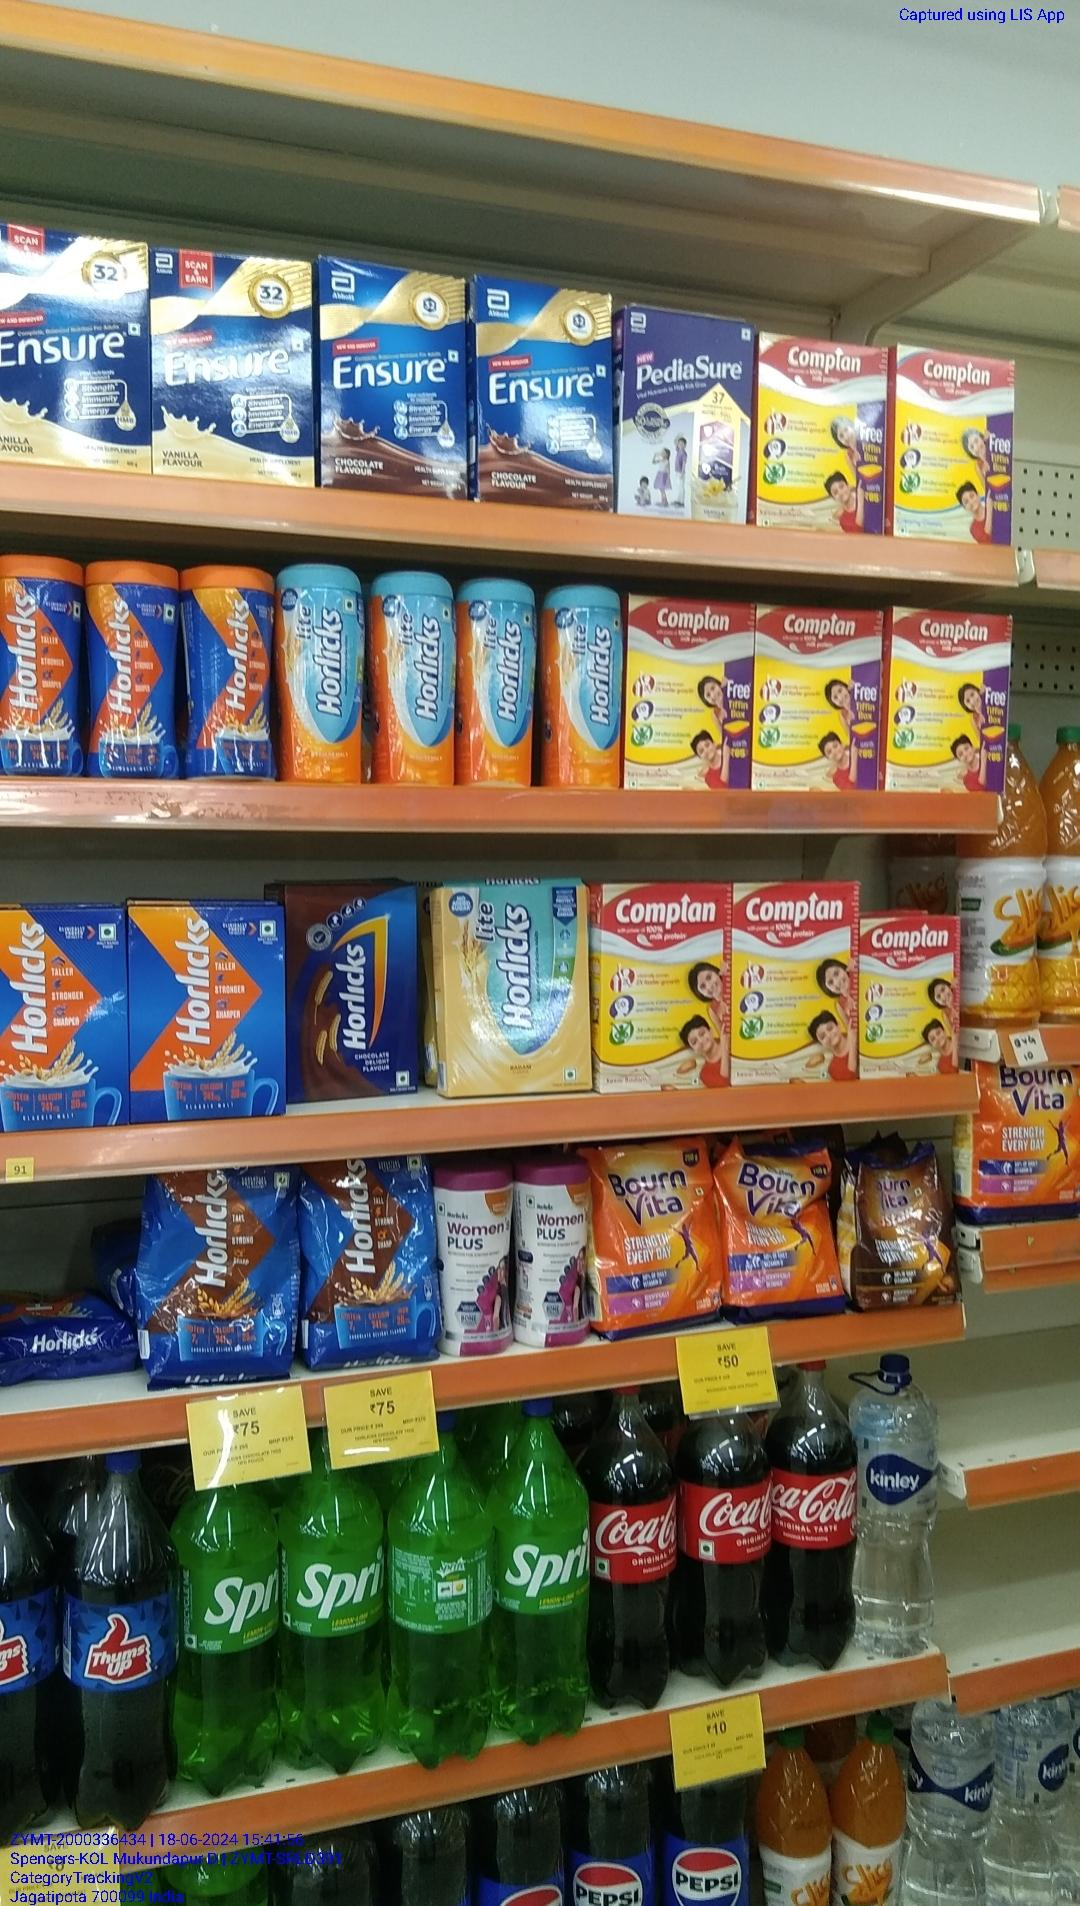BOURN_VITA_750_G_POUCH: (600, 1143, 719, 1331), (727, 1142, 842, 1317)
BOURN_VITA_FIVE_STAR_MAGIC_500_G_POUCH: (851, 1156, 957, 1306)
COMPLAN_CREAMY_CLASSIC_500_G_PACK: (895, 346, 1013, 542)
COMPLAN_KESAR_BADAM_200_GMS_PACK: (861, 919, 957, 1079)
COMPLAN_KESAR_BADAM_500_GMS_PACK: (602, 888, 730, 1089), (757, 336, 885, 533), (734, 882, 857, 1083), (628, 594, 750, 789), (755, 605, 877, 788), (891, 603, 1007, 791)
ENSURE_VANILLA_400_G_PACK: (0, 224, 148, 469), (153, 249, 312, 476)
HORLICKS_LITE_REGULAR_MALT_500_GM_JAR: (370, 569, 456, 785), (284, 564, 363, 784), (542, 580, 619, 791), (461, 580, 534, 788)
HORLICK_CHOCOLATE_750_G_POUCH: (143, 1170, 295, 1380), (306, 1166, 441, 1360)
HORLICK_CLASSIC_MALT_500_G_JAR: (183, 569, 279, 780), (89, 562, 178, 776), (1, 556, 81, 776)
HORLICK_CLASSIC_MALT_500_G_PACK: (131, 907, 285, 1115), (1, 910, 126, 1130)
PEDIASURE_VANILLA_500_G_PACK: (626, 308, 749, 526)
